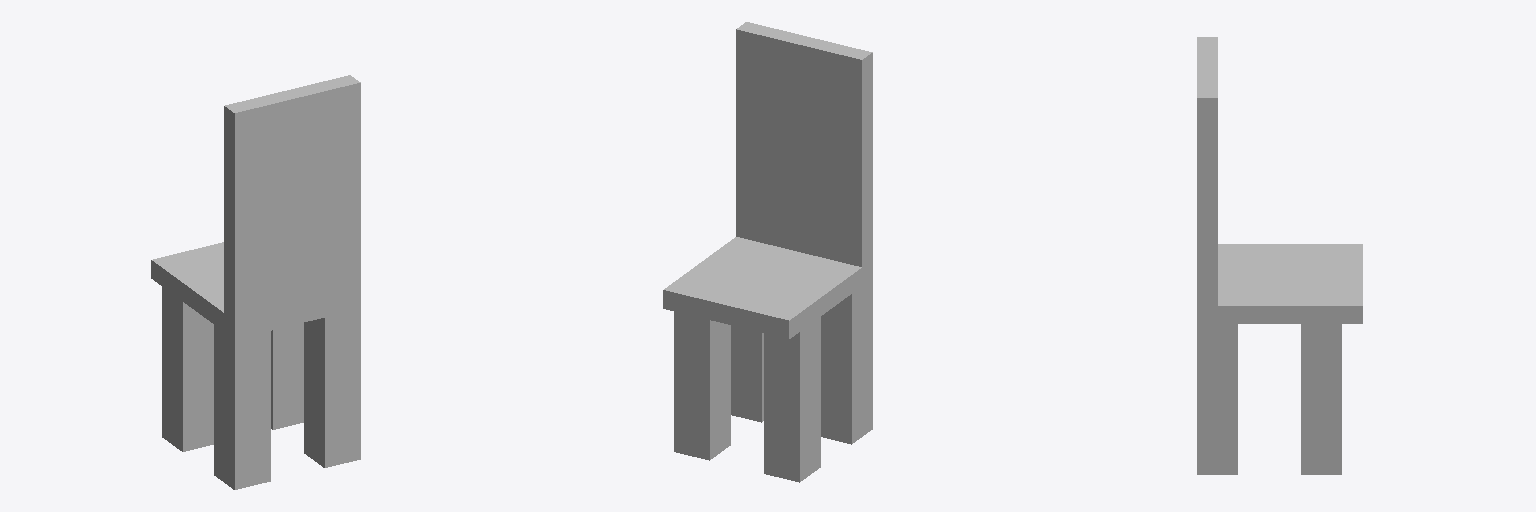
Rendered from chair.obj.
3 renders of one model, left to right at view 1: azimuth 30°, elevation 25°; view 2: azimuth 150°, elevation 25°; view 3: azimuth 270°, elevation 25°, orthographic.
Visible parts, largest first — view 1: object 1; view 2: object 1; view 3: object 1.
Part boxes in pixels (bbox=[...]): object 1: bbox=[151, 75, 360, 489]; object 1: bbox=[663, 22, 872, 482]; object 1: bbox=[1197, 37, 1362, 474].
Size of the model in its own units: 0.7 by 2 by 0.8.